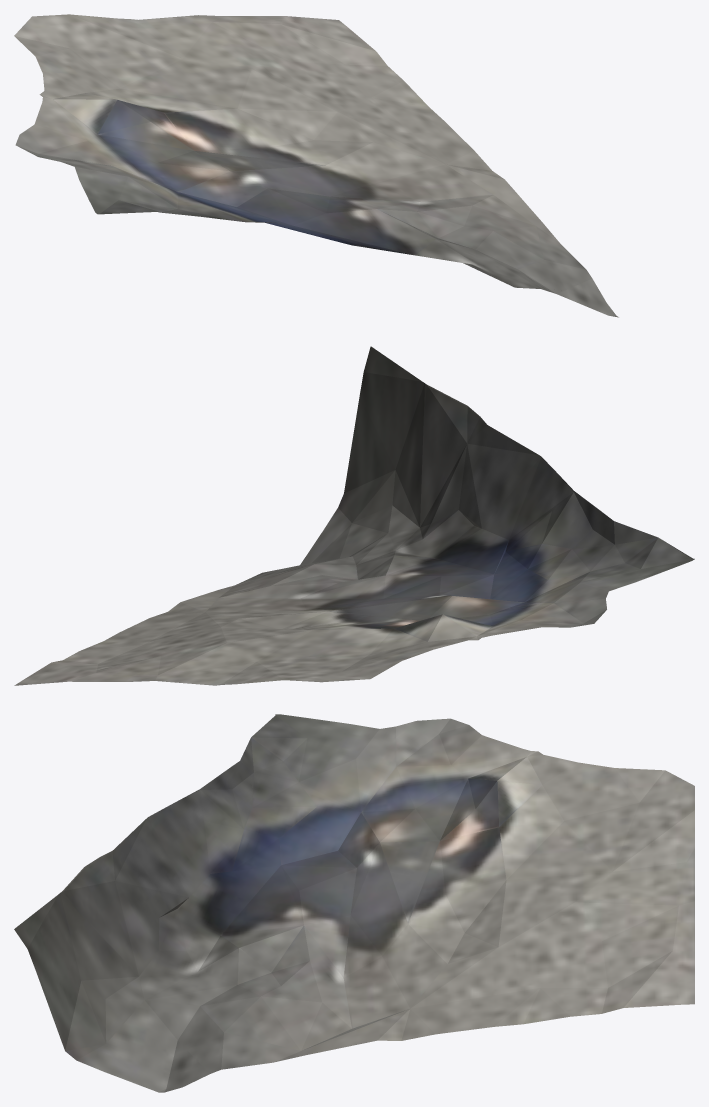
3 views of the same model, one above another, from view 1: azimuth 30°, elevation 25°; view 2: azimuth 150°, elevation 25°; view 3: azimuth 270°, elevation 25° (orthographic). The views are drawn at different scales.
Bounding box in the file's own units: 1.1 × 0.3917 × 1.48.
Materials: 1 (1 with a texture image).
